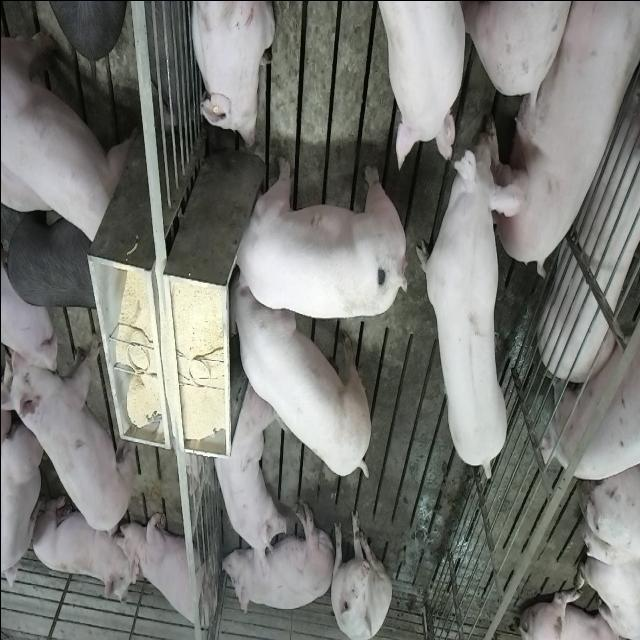Feeding: (228, 268, 376, 481), (230, 157, 412, 320)
Lateral_lying: (488, 1, 640, 272), (539, 50, 640, 384), (221, 498, 333, 616)
Sitting: (125, 506, 216, 636), (328, 506, 391, 638)
Standing: (416, 128, 514, 484), (1, 25, 132, 246), (5, 323, 136, 532), (542, 292, 640, 478), (366, 0, 464, 170), (3, 200, 97, 314)
Sternal_lying: (207, 382, 284, 568), (186, 0, 274, 150), (30, 489, 136, 604)
